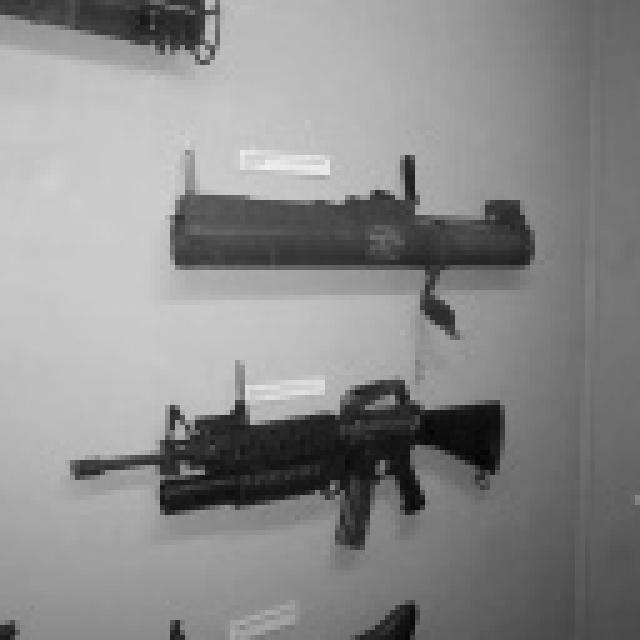Rifle: (51, 364, 528, 579), (168, 140, 576, 348)
